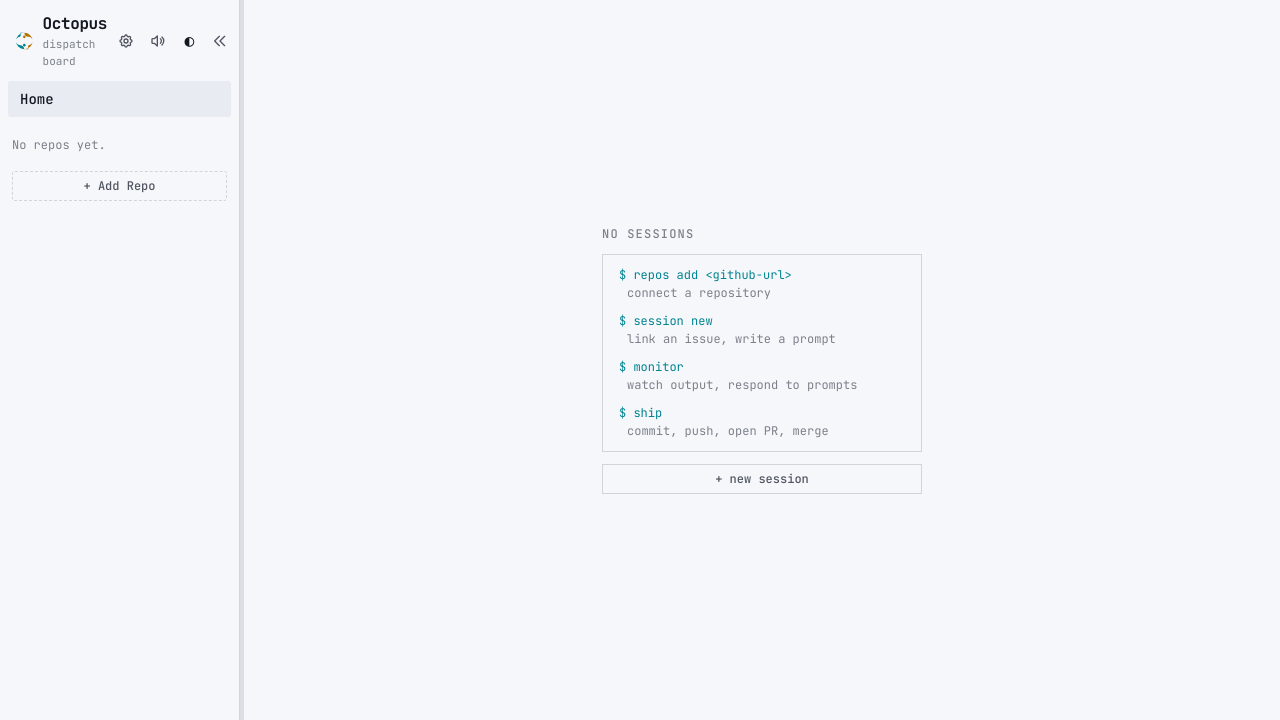
Scenario: Repo management › opens add repo dialog when clicking + Add Repo in sidebar
The image size is (1280, 720).
Click the button with test id "add-repo-button" at coordinates (120, 186), box [12,171,227,201]
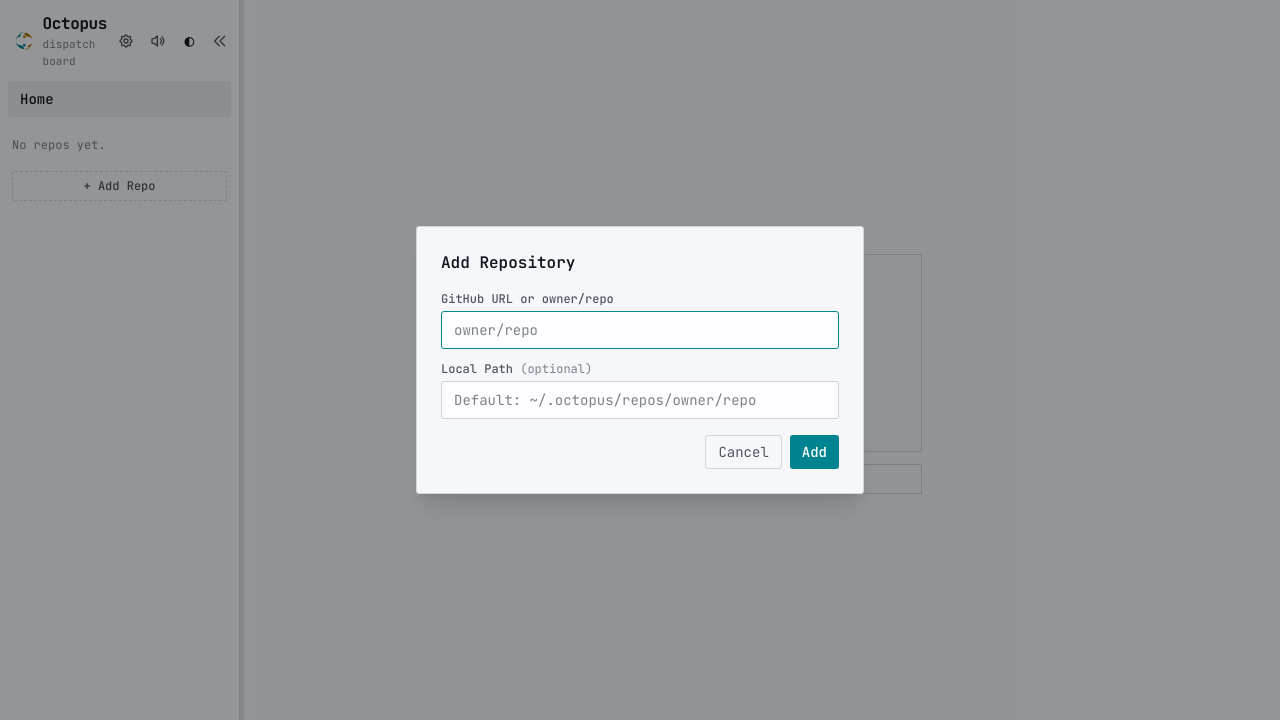
Expected: the heading "Add Repository" is shown, [441,252,575,273]
Expected: the field with placeholder "owner/repo" is shown, [441,311,839,349]
